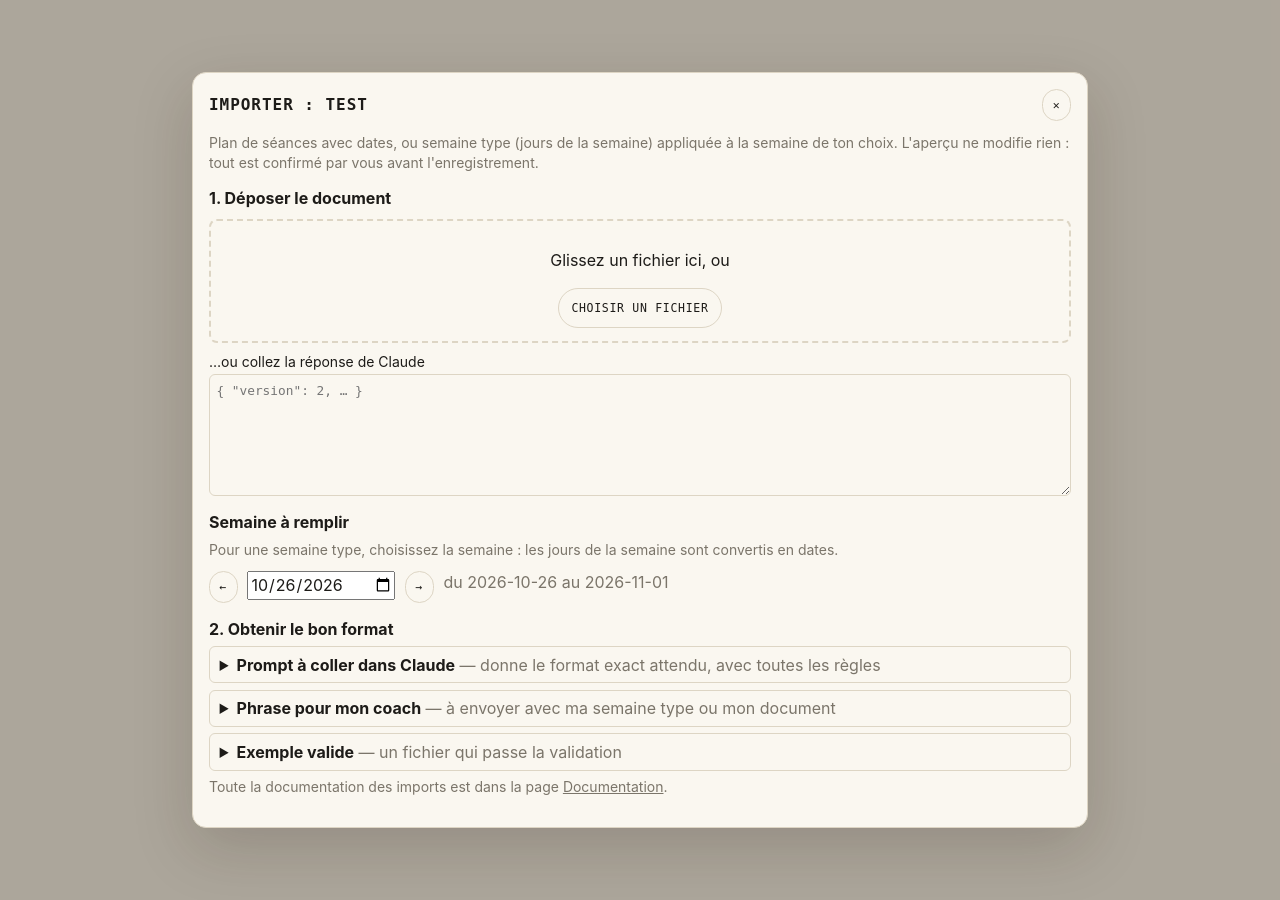
Test: Panneau d'import › applique une semaine type à la semaine choisie, puis enregistre après confirmation
The image size is (1280, 900).
Type "2026-11-04" into the date field named "Semaine à remplir" at [321, 585], box [247, 571, 395, 600]
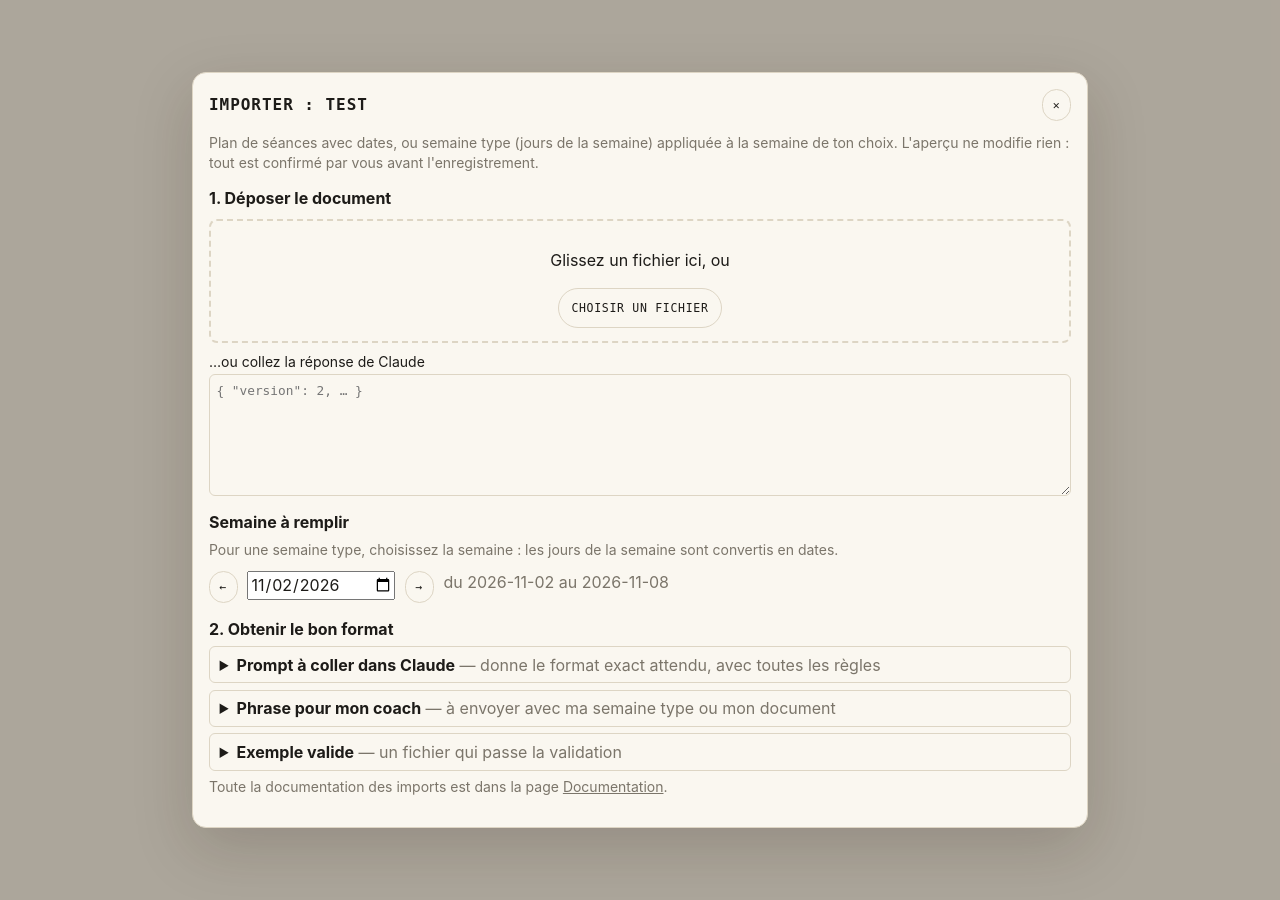
Click the text box labelled "…ou collez la réponse de Claude" at [640, 435], box [209, 374, 1071, 496]
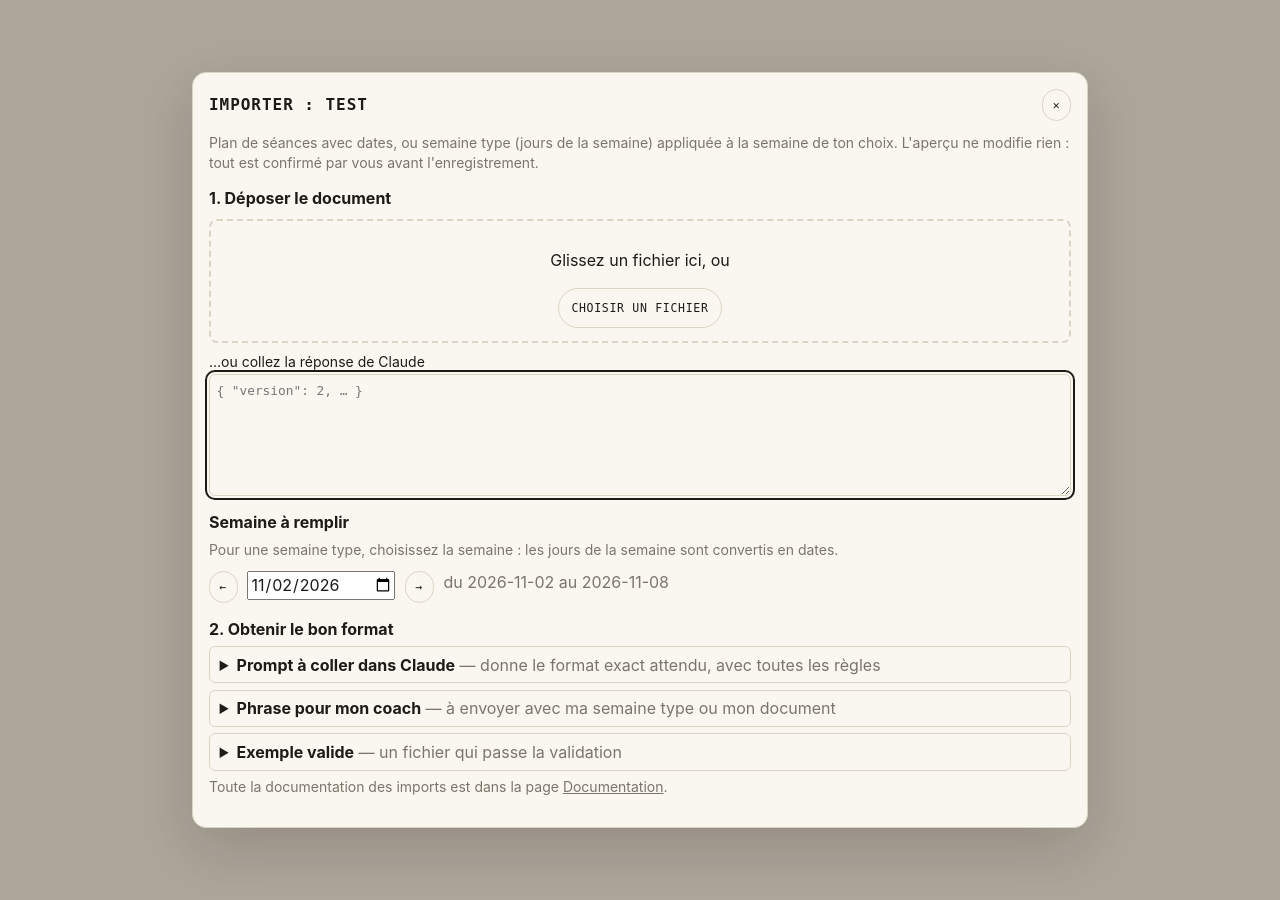
Type keys "{\"version\":1,\"semaine_type\":[{\"jour\":\"mardi\",\"type\":\"footing\",\"duree_min\":50}]}"
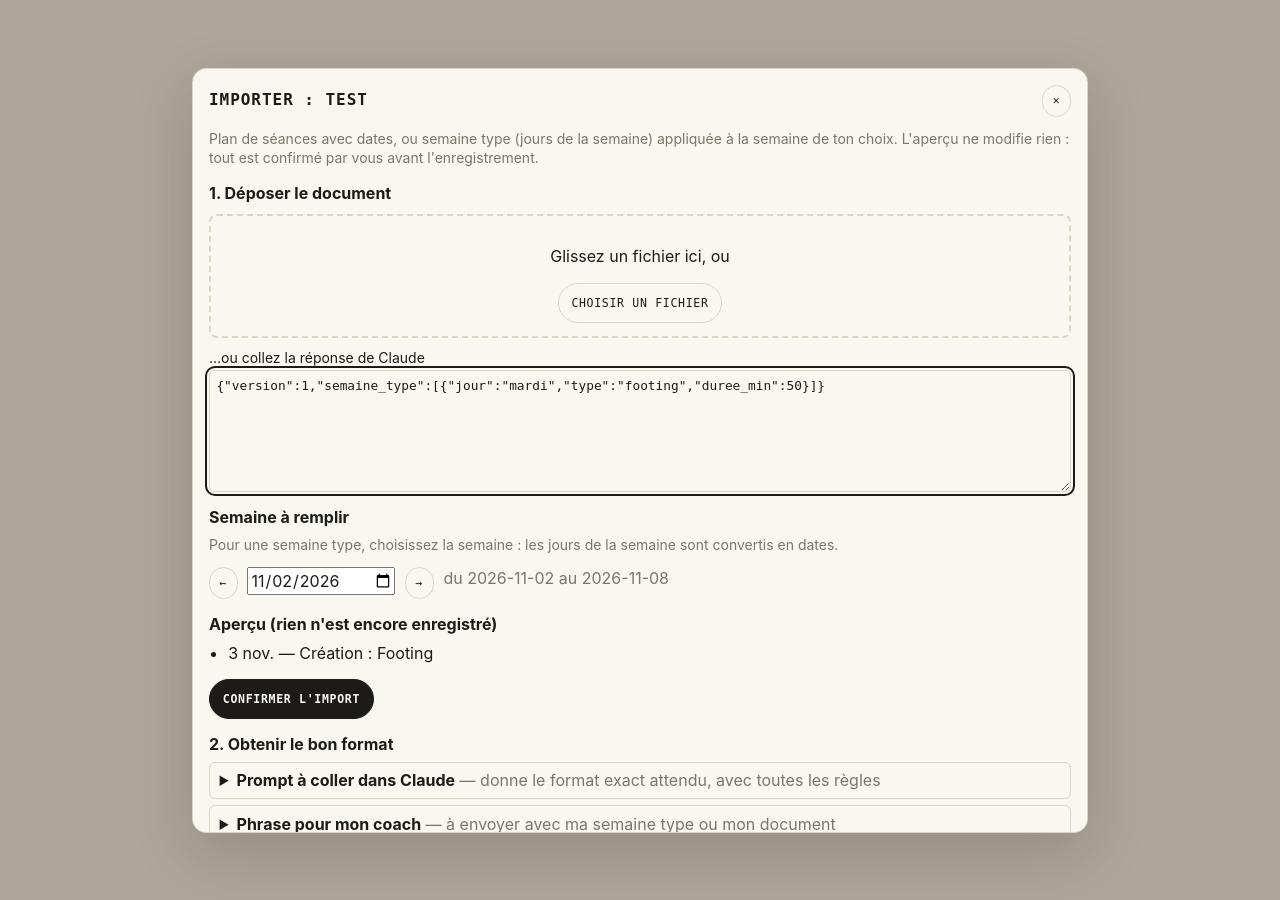
Result: the list item "3 nov. — Création : Footing" is shown at [228, 643, 433, 663]
Click the button "Confirmer l'import" at [291, 699], box [209, 679, 374, 719]
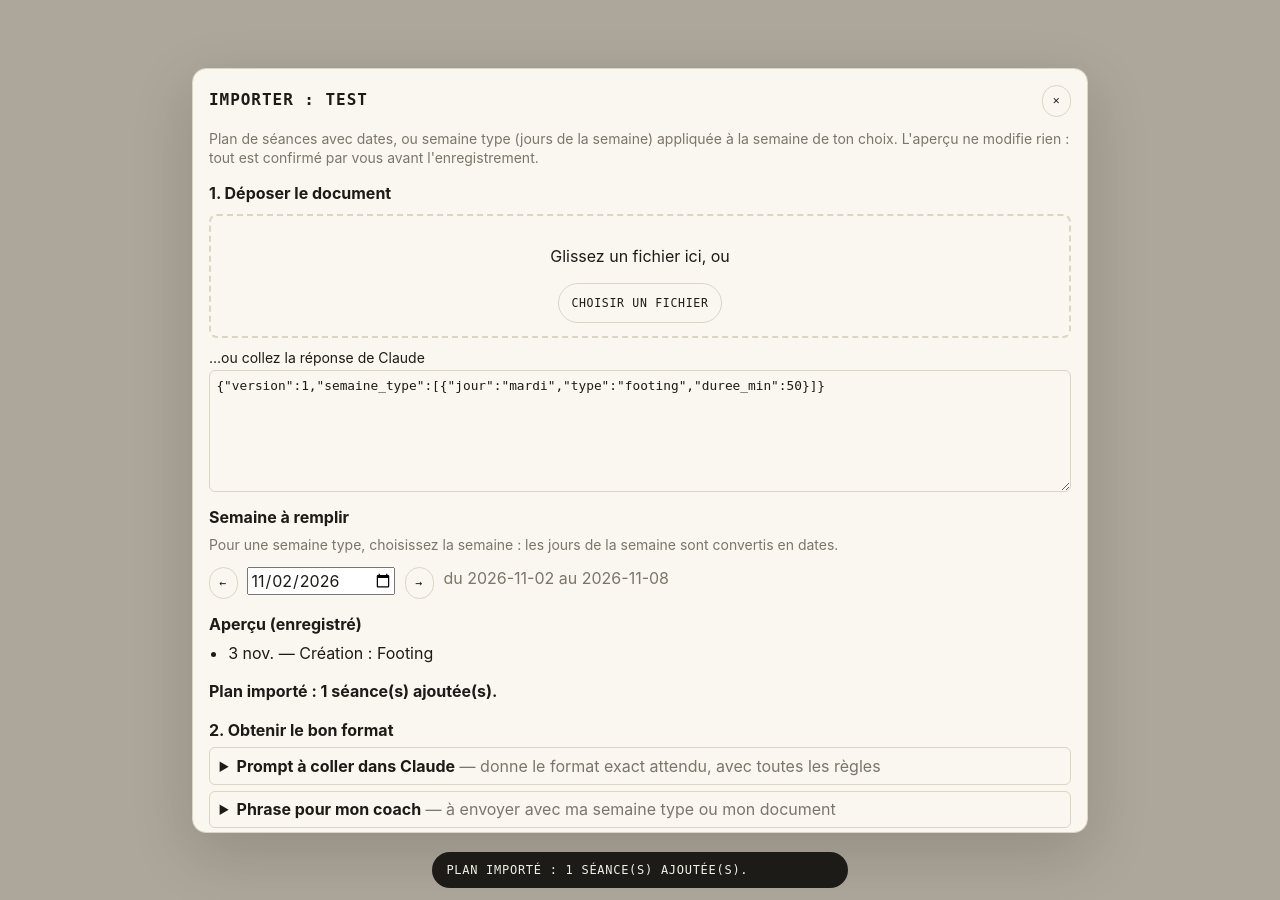
Result: the 2nd text "Plan importé : 1 séance(s) ajoutée(s)." is shown at [432, 852, 848, 888]
